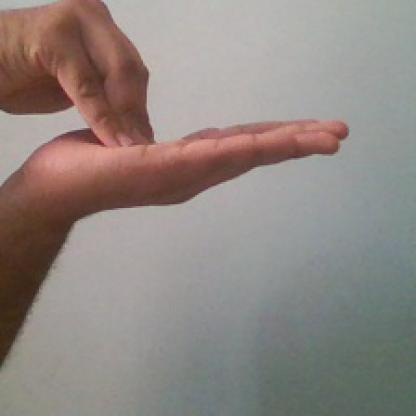Z: (3, 0, 364, 222)
